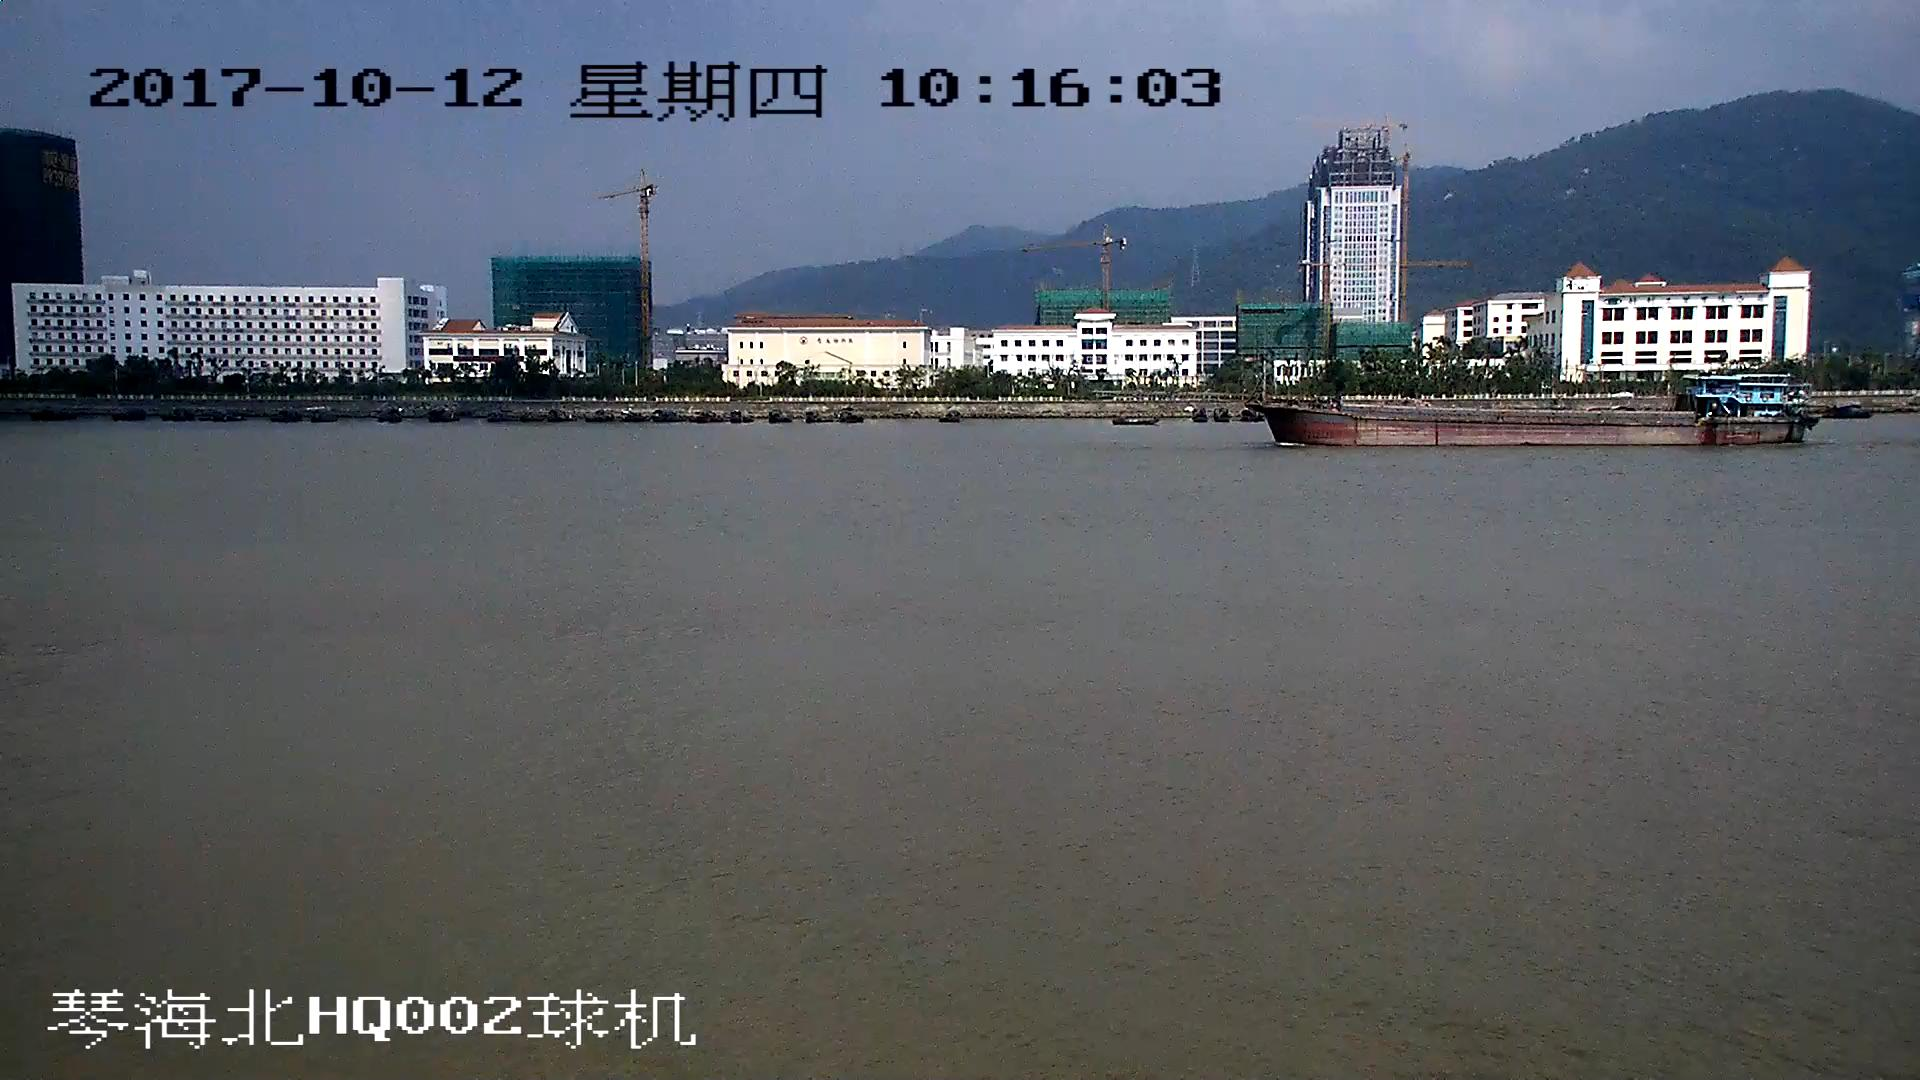bulk cargo carrier: (1257, 377, 1823, 450)
